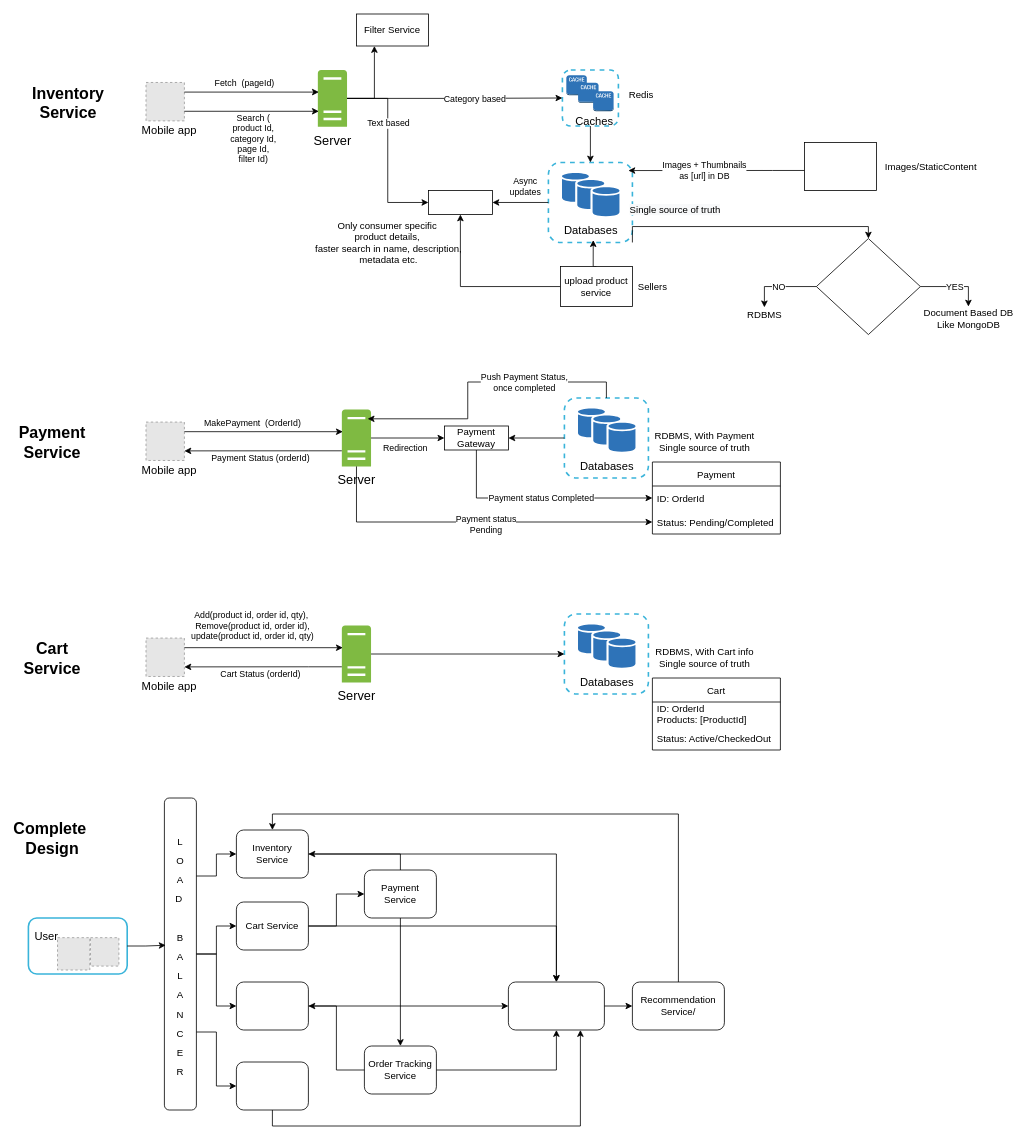
The diagram is 1034 pixels wide and 1146 high, and some of its shapes have lost their labels. Grey dashed boxes stand in for pictures. The centre of each missing label's shape, as x and y in pixels:
CDN or Amazon S3: point (840, 166)
Distributed Queue: point (556, 1005)
Elastic search data store: point (460, 202)
Many Kinds of Products with lots of categories?: point (868, 286)
Product Onboarding Service: point (272, 1085)
User Service: point (272, 1005)
